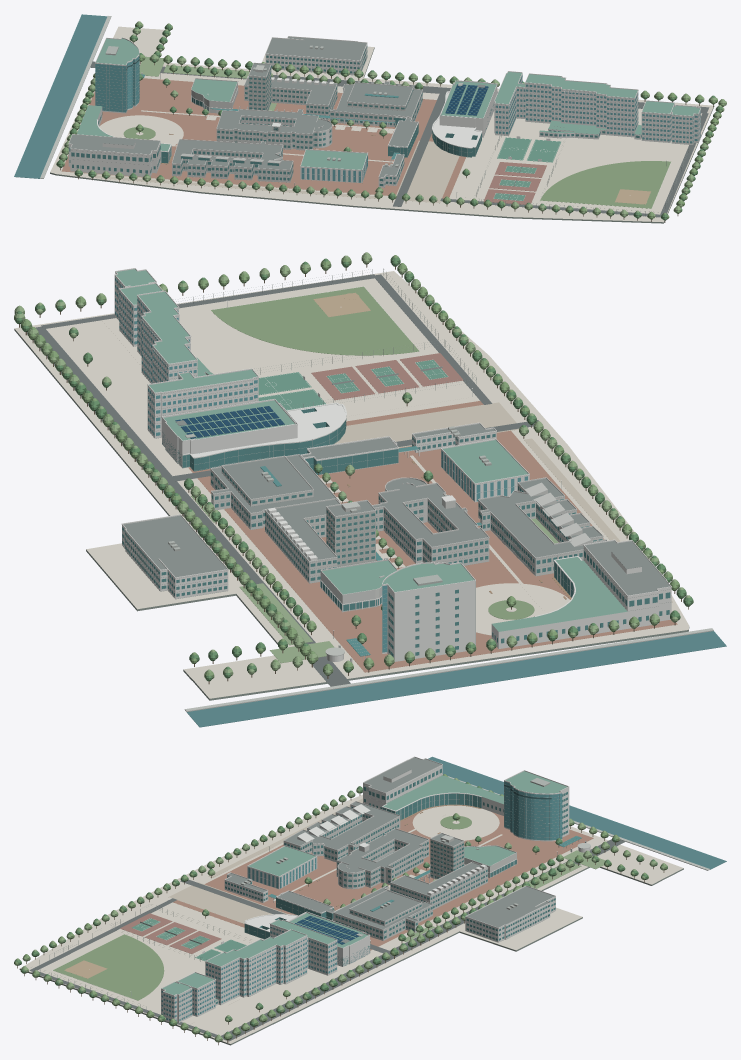
Rendered from shinnarashino-campus.glb.
3 renders of one model, top to bottom at view 1: azimuth 30°, elevation 25°; view 2: azimuth 150°, elevation 25°; view 3: azimuth 270°, elevation 25°, orthographic. The views are drawn at different scales.
Parts seen in each view (by area): view 1: Landscape_Paving, Campus_Ground, Campus_Trees, Sports_Fields, Dorm_Men_Main, Context_River, Building_08, Building_13, Building_05, Building_04, Building_06, Building_11 (+12 smaller); view 2: Landscape_Paving, Campus_Ground, Campus_Trees, Sports_Fields, Context_River, Building_13, Building_04, Building_12, Building_05, Building_08, Building_11, Building_06 (+10 smaller); view 3: Landscape_Paving, Campus_Ground, Campus_Trees, Sports_Fields, Building_13, Dorm_Men_Main, Building_12, Building_08, Building_05, Context_River, Building_06, Building_11 (+10 smaller).
Part boxes in pixels (box(x1,y1,x2,y2)): Landscape_Paving: box(61, 56, 709, 217); Campus_Ground: box(50, 26, 714, 223); Campus_Trees: box(56, 21, 726, 222); Sports_Fields: box(475, 132, 688, 217); Dorm_Men_Main: box(525, 73, 638, 137); Context_River: box(14, 14, 111, 178); Building_08: box(172, 139, 293, 182); Building_13: box(68, 105, 171, 176); Building_05: box(216, 109, 332, 150); Building_04: box(431, 80, 497, 157); Building_06: box(329, 81, 422, 127); Building_11: box(265, 36, 367, 75); Landscape_Paving: box(27, 274, 677, 686); Campus_Ground: box(14, 271, 689, 700); Campus_Trees: box(14, 252, 693, 684); Sports_Fields: box(173, 268, 476, 410); Context_River: box(184, 628, 726, 727); Building_13: box(491, 539, 671, 648); Building_04: box(161, 399, 346, 471); Building_12: box(382, 562, 475, 661); Building_05: box(372, 477, 489, 565); Building_08: box(478, 477, 607, 576); Building_11: box(121, 514, 228, 599); Building_06: box(210, 454, 340, 529); Landscape_Paving: box(29, 798, 625, 1041); Campus_Ground: box(19, 794, 683, 1045); Campus_Trees: box(14, 774, 667, 1045); Sports_Fields: box(31, 905, 246, 1010); Building_13: box(363, 756, 503, 820); Dorm_Men_Main: box(205, 929, 307, 1005); Building_12: box(504, 770, 569, 841); Building_08: box(283, 801, 400, 862); Building_05: box(336, 828, 429, 889); Context_River: box(428, 756, 726, 870); Building_06: box(333, 885, 432, 940); Building_11: box(465, 885, 555, 942).
Size of the model in its own units: 554 by 44.2 by 575.
